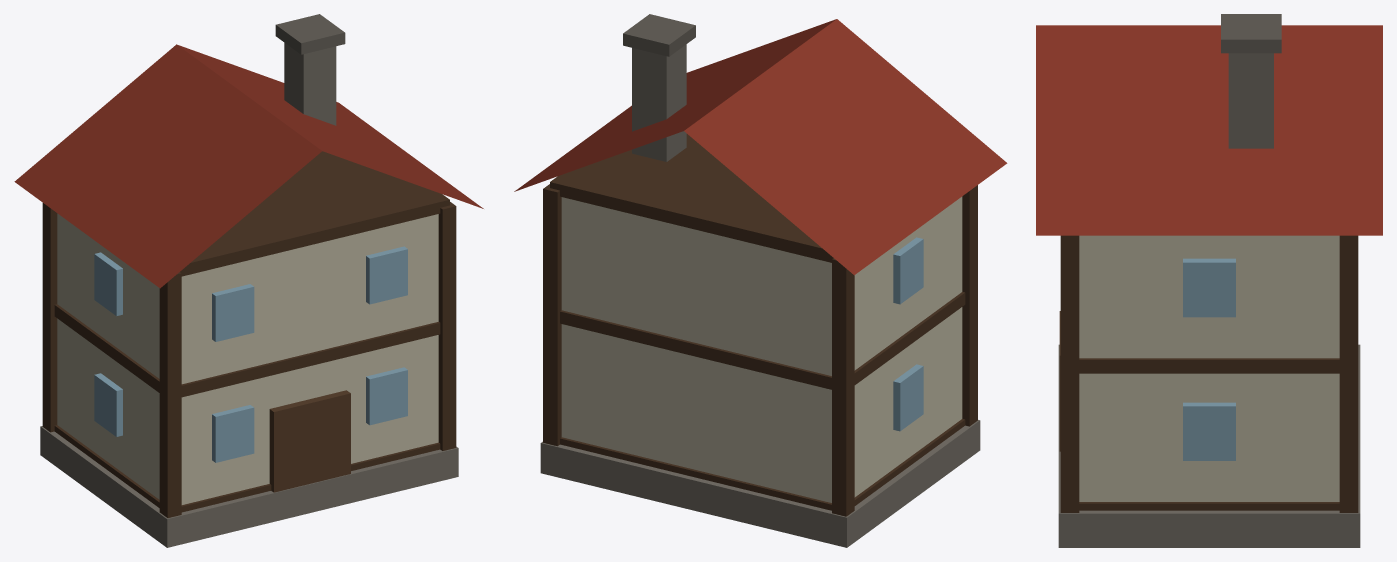
Rendered from building.glb.
3 renders of one model, left to right at view 1: azimuth 30°, elevation 25°; view 2: azimuth 150°, elevation 25°; view 3: azimuth 270°, elevation 25°, orthographic. The views are drawn at different scales.
Parts seen in each view (by area): view 1: building; view 2: building; view 3: building.
Boxes of the visible parts, x1,y1,x2,y2 form: building: (14,14,483,547); building: (514,14,1007,547); building: (1036,14,1382,547).
Size of the model in its own units: 7.08 by 8.45 by 5.51.
